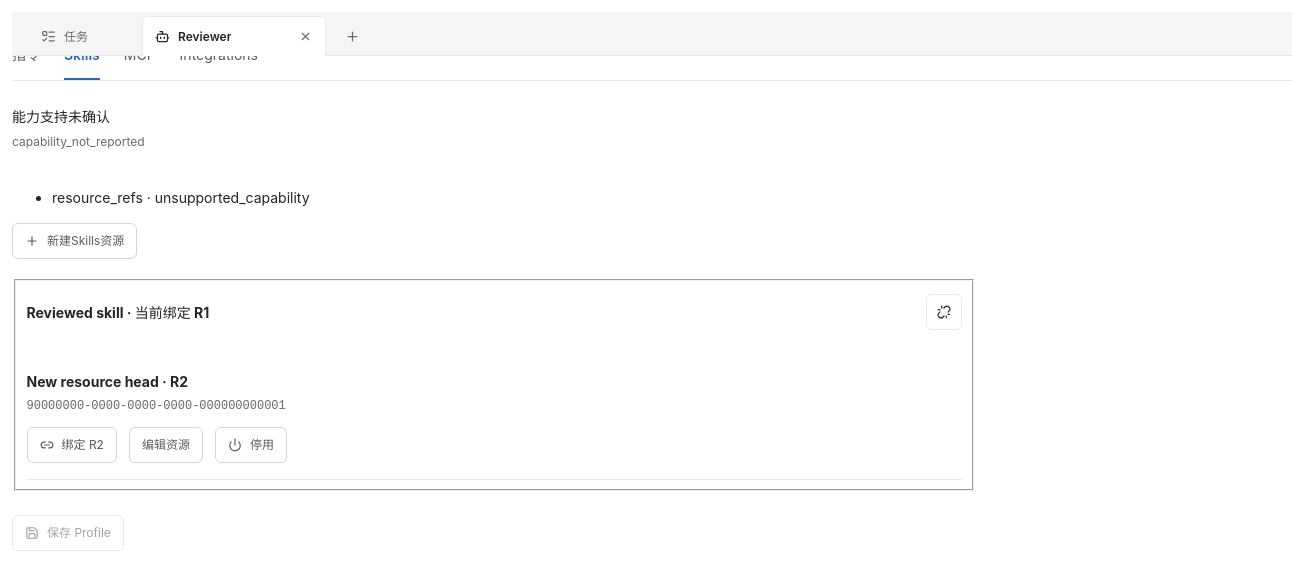
it: independent resources and immutable Profile capability bindings › explicit unbind saves only the Profile while leaving the resource intact
Click the button named "解除 Reviewed skill R1 绑定". click: (944, 312)
box: 926,294 -> 962,330
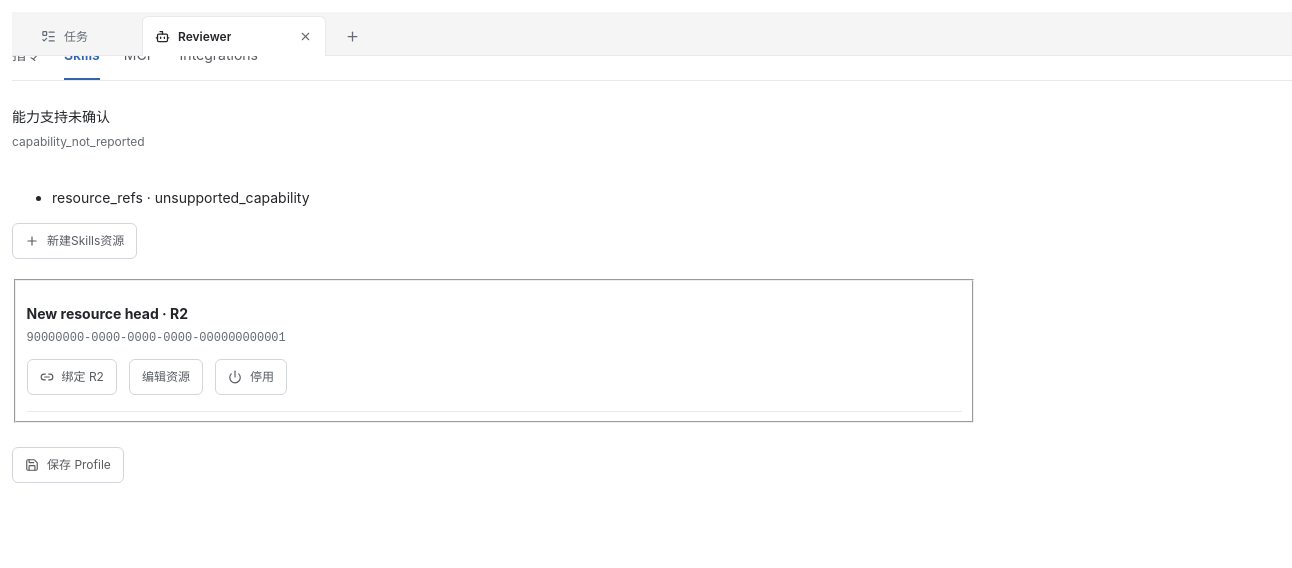
Click the button "保存 Profile". click: (68, 465)
box: 12,447 -> 124,483
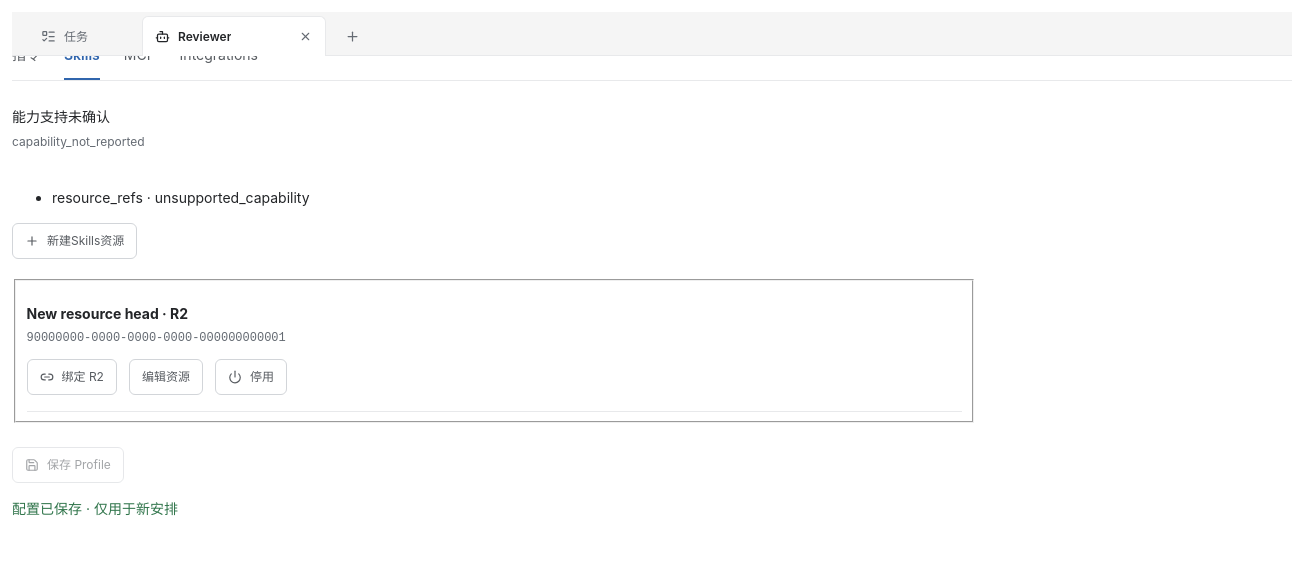
Check: the text "配置已保存 · 仅用于新安排" is shown, box 12,500 -> 178,517
